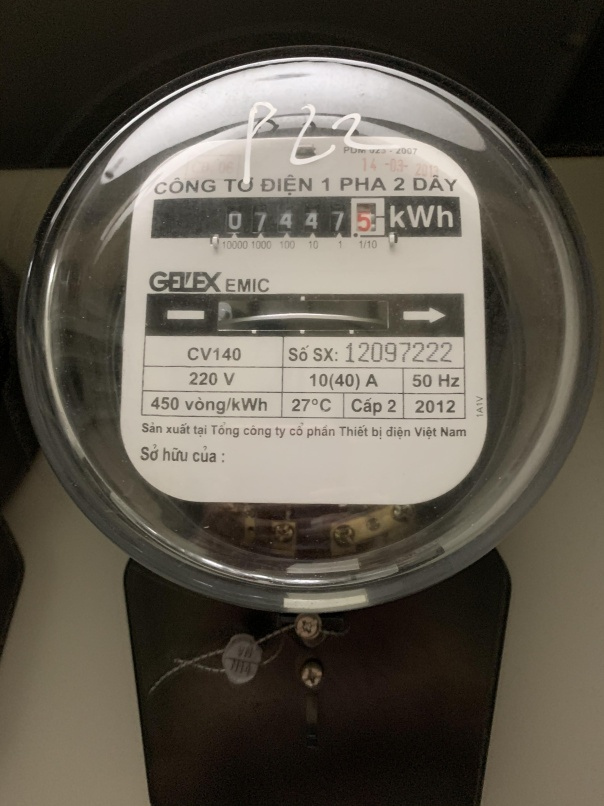counter: (150, 192, 462, 241)
electricity_meter: (19, 49, 596, 614)
